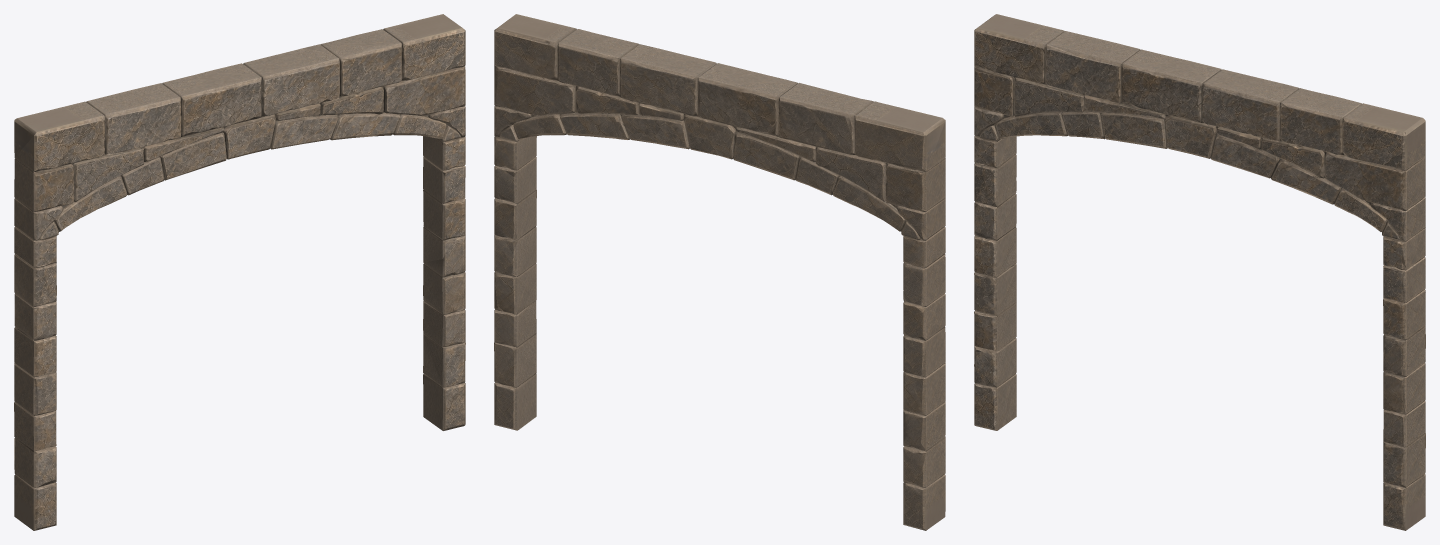
The model's file is doorway.glb.
3 renders of one model, left to right at view 1: azimuth 30°, elevation 25°; view 2: azimuth 150°, elevation 25°; view 3: azimuth 330°, elevation 25°, orthographic.
Parts seen in each view (by area): view 1: output_unwrapped; view 2: output_unwrapped; view 3: output_unwrapped.
Part boxes in pixels (x1=…): output_unwrapped: x1=14, y1=14, x2=465, y2=530; output_unwrapped: x1=494, y1=14, x2=945, y2=530; output_unwrapped: x1=974, y1=14, x2=1425, y2=530.
Bounding box in the file's own units: 1.9 × 1.68 × 0.1704.
1 material, 1 textured.
